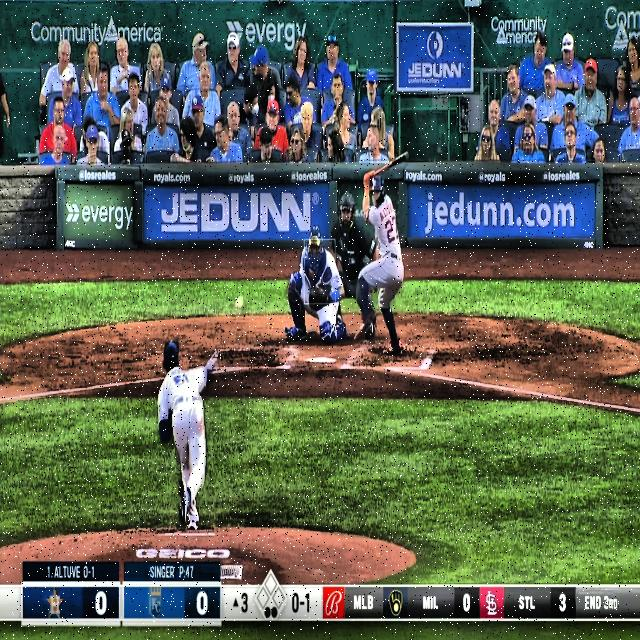baseball: (235, 295, 243, 309)
